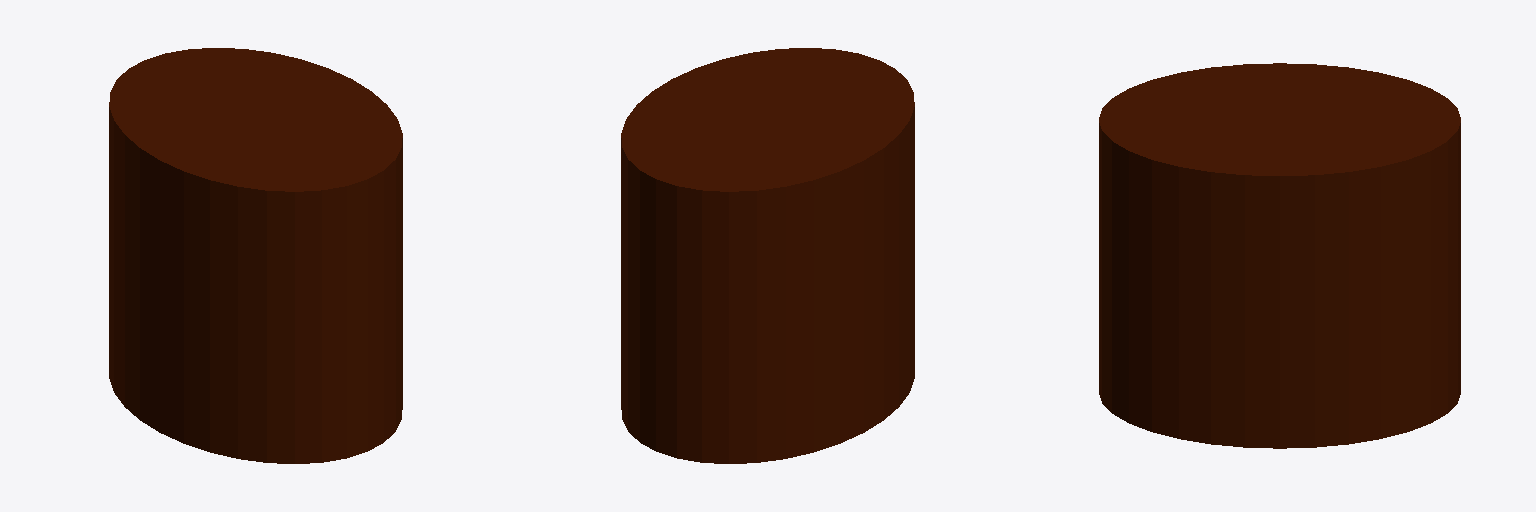
File: player_left.obj
The picture shows the model from 3 angles: view 1: azimuth 30°, elevation 25°; view 2: azimuth 150°, elevation 25°; view 3: azimuth 270°, elevation 25°; orthographic projection.
Parts seen in each view (by area): view 1: Cylinder003; view 2: Cylinder003; view 3: Cylinder003.
Boxes of the visible parts, x1,y1,x2,y2 form: Cylinder003: [109, 48, 402, 463]; Cylinder003: [621, 48, 914, 463]; Cylinder003: [1099, 63, 1460, 448].
Bounding box in the file's own units: 5.57 × 6.26 × 7.55.